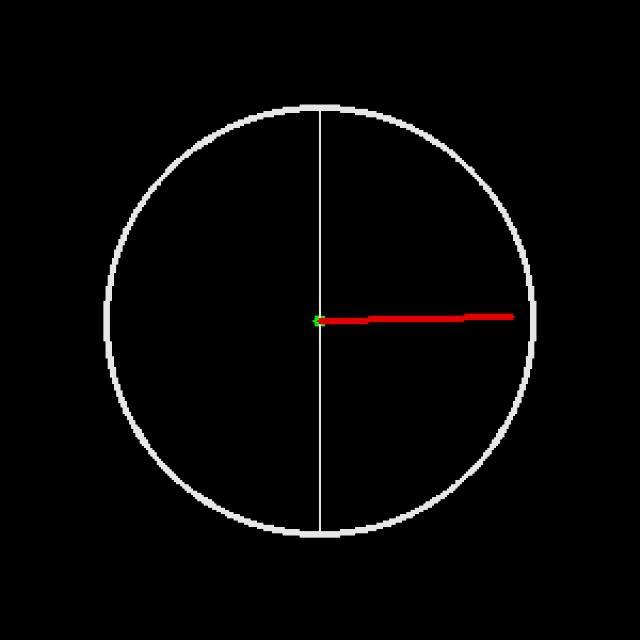Needle_Tip: (456, 297, 531, 338)
Needle_base: (285, 285, 348, 362)
